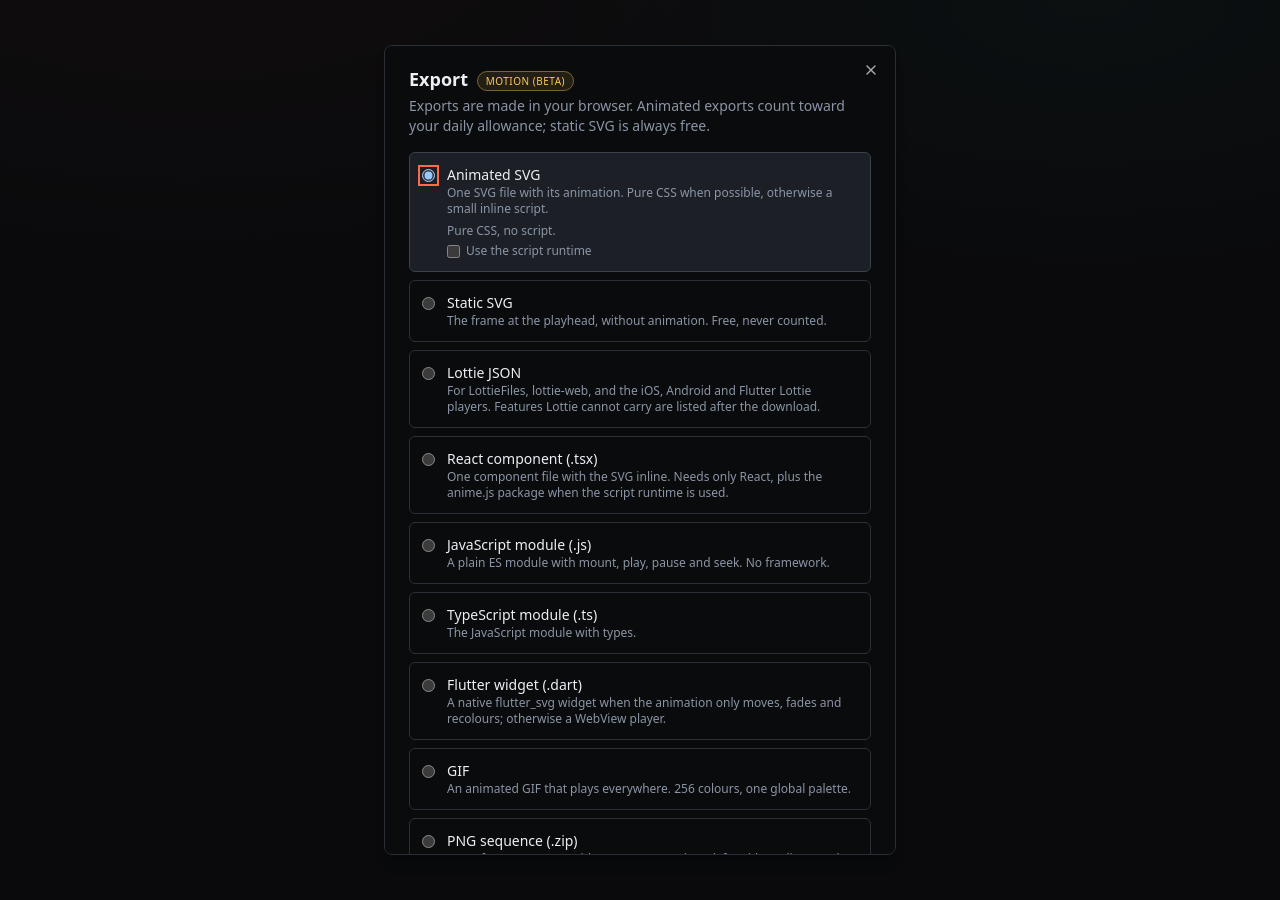
it: MM46: Lottie and code exports in the dialog › {} counts as react_tsx first, then downloads Bounce.tsx
Click the radio button labelled "React component": (428, 460) [422, 453, 435, 466]
(page scrolled)
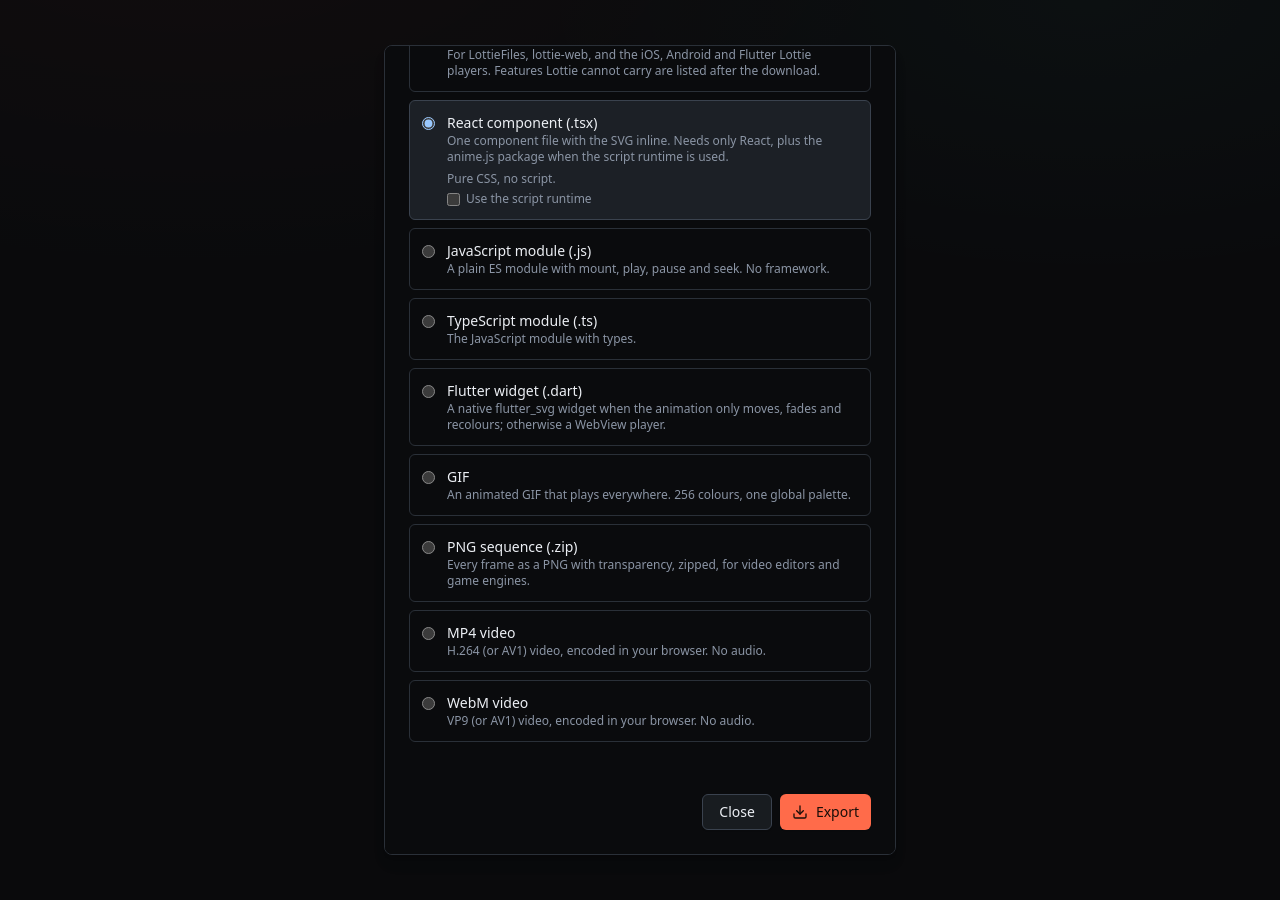
Click the button "Export": (825, 812) [780, 794, 871, 830]
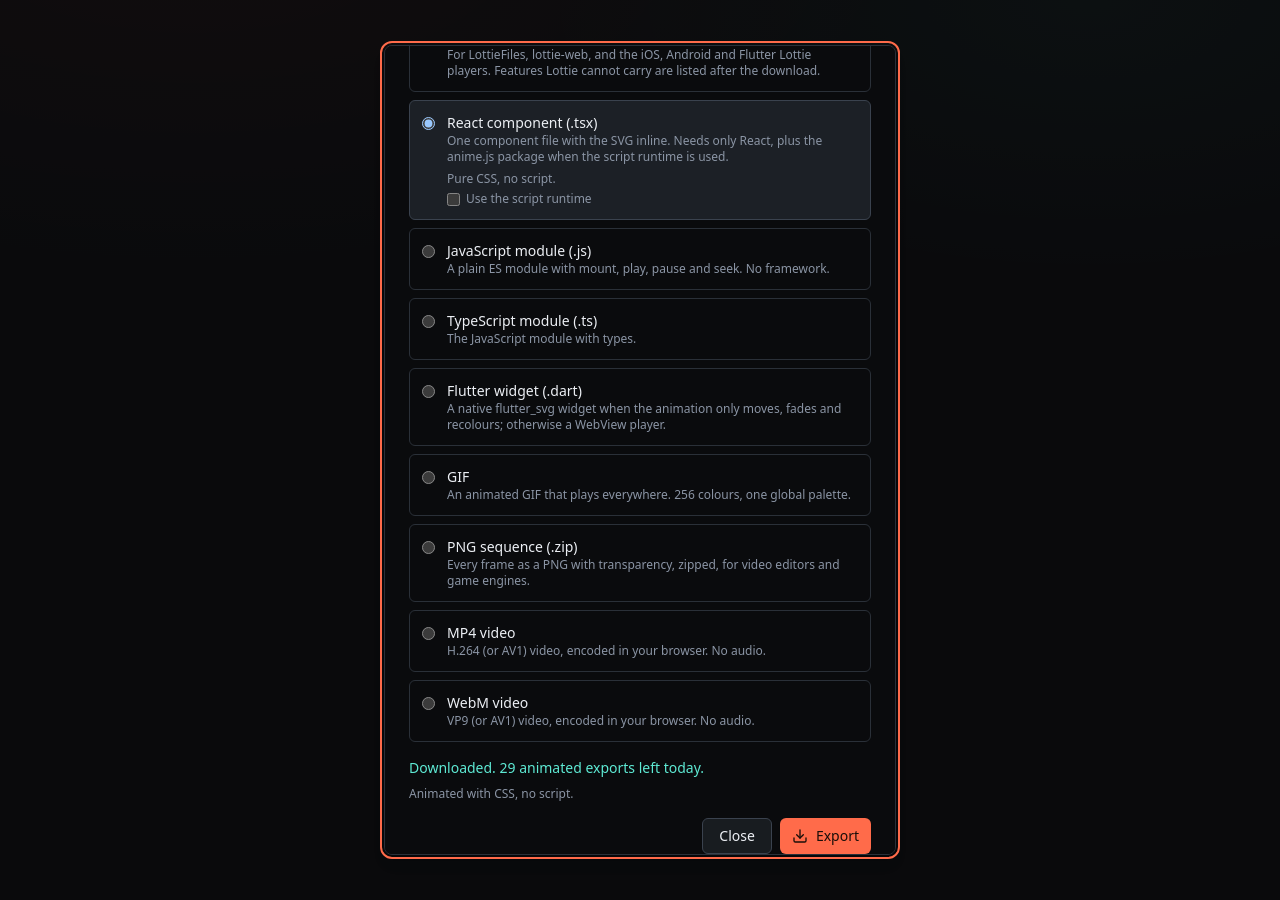
Expected: the message with test id "vector-export-status" shows "29 animated exports left today.", [409, 758, 704, 777]
